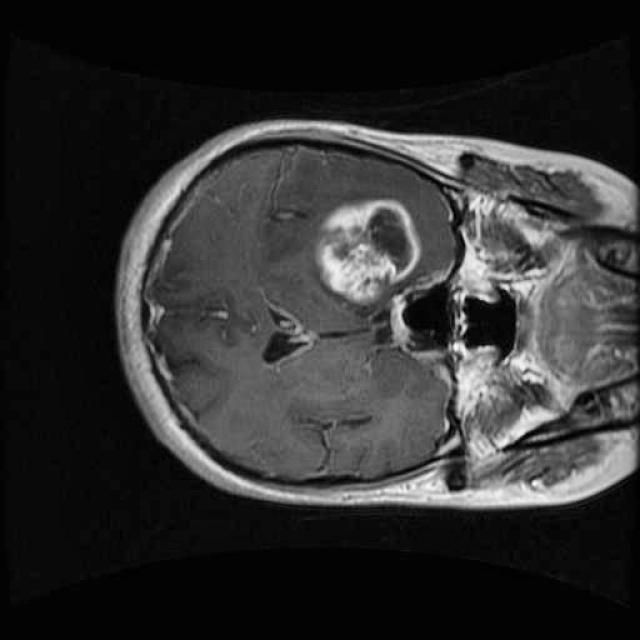Non-Tumor: (302, 188, 432, 318)
